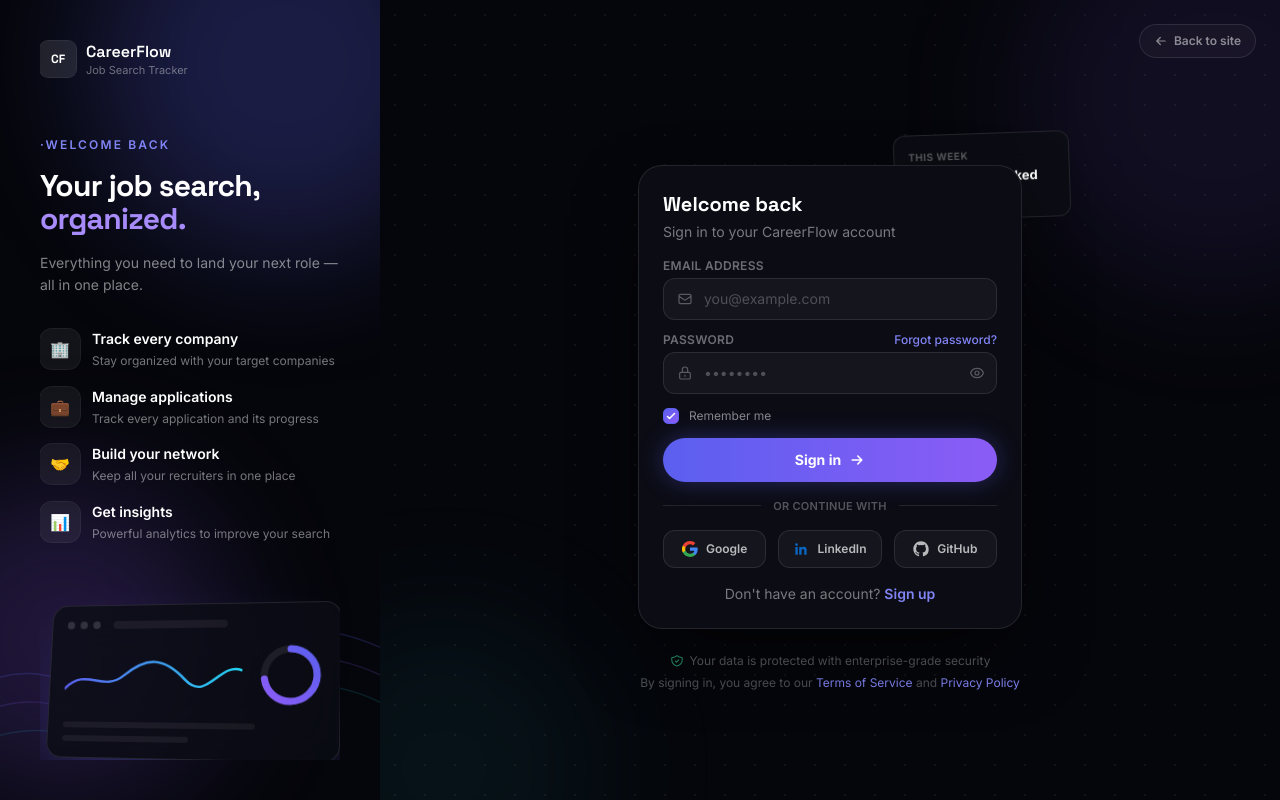
Test: Login › shows the server error message when login fails
Type "jane@example.com" into the field with placeholder "you@example.com" at (830, 299), box top-left (663, 278), bottom-right (997, 320)
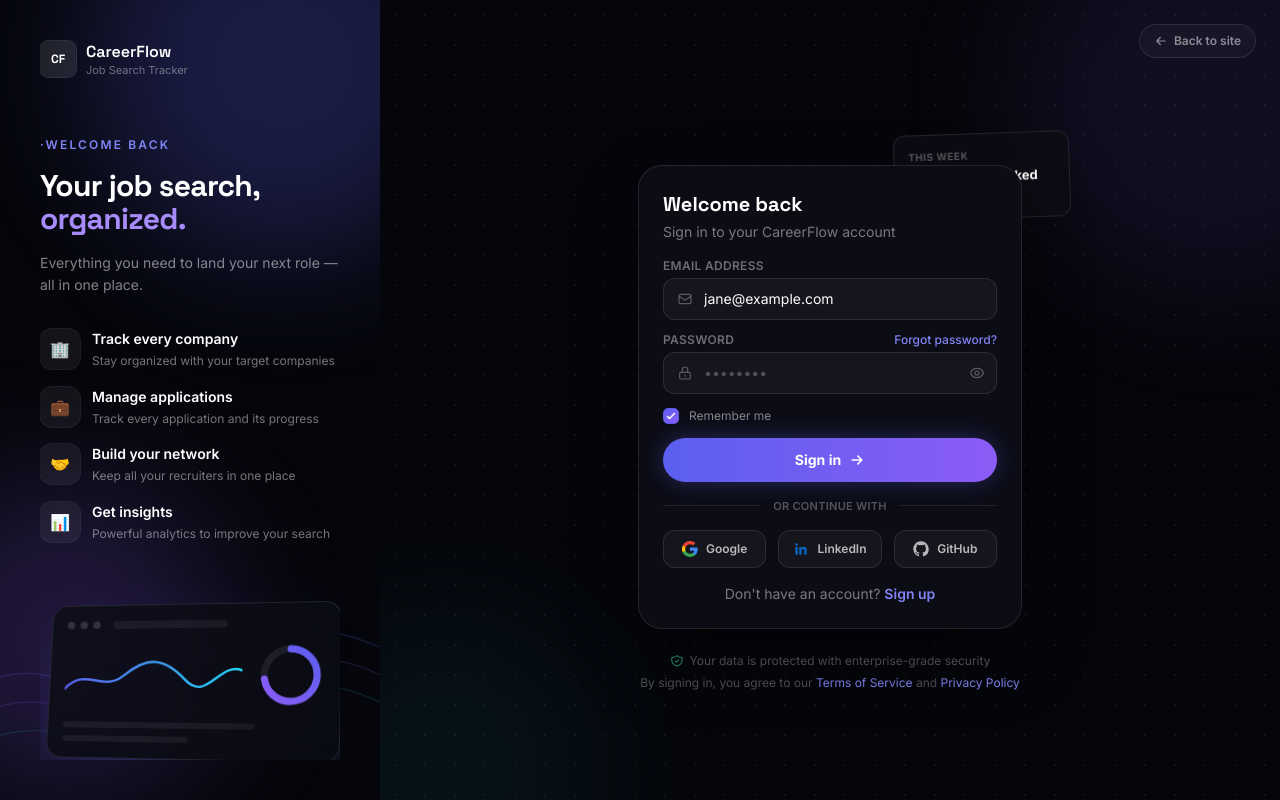
Type "secret123" into the password field with placeholder "••••••••" at (830, 373), box top-left (663, 352), bottom-right (997, 394)
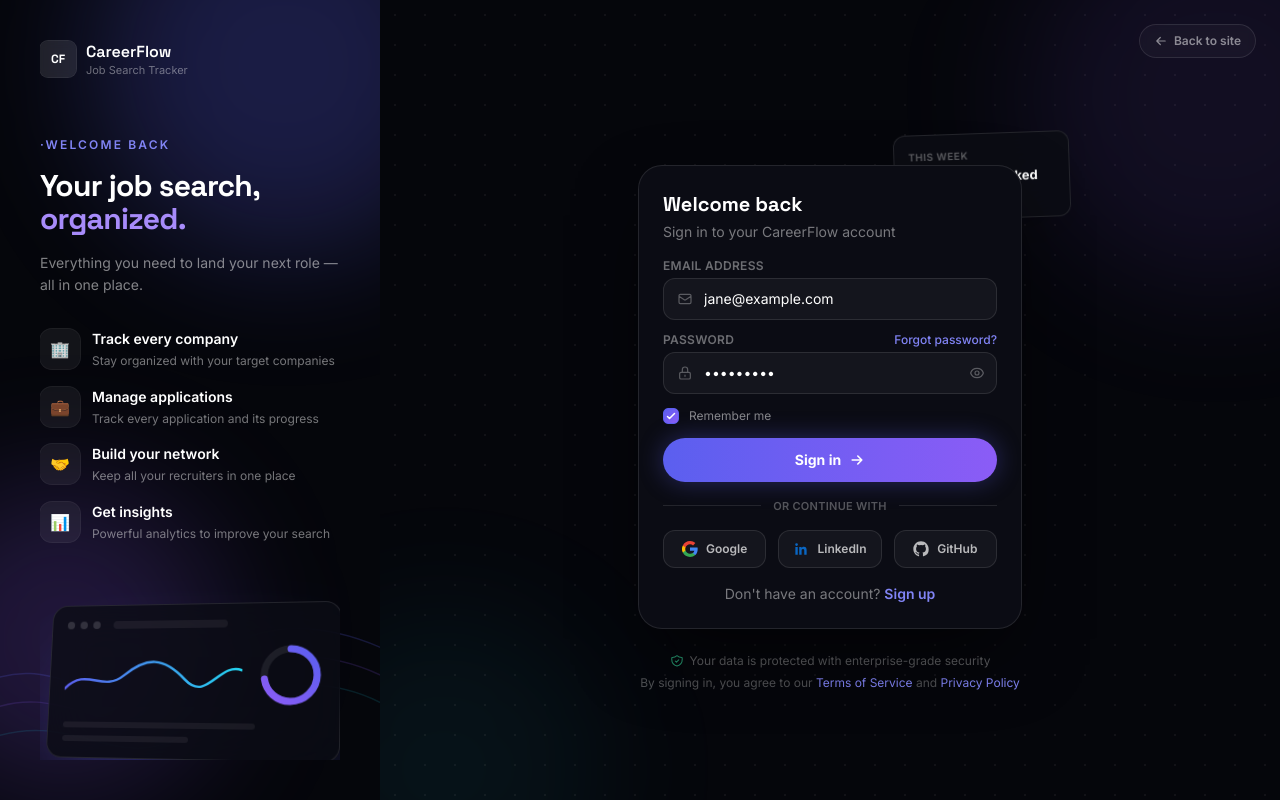
Click the button "Sign in" at (830, 460), box top-left (663, 438), bottom-right (997, 482)
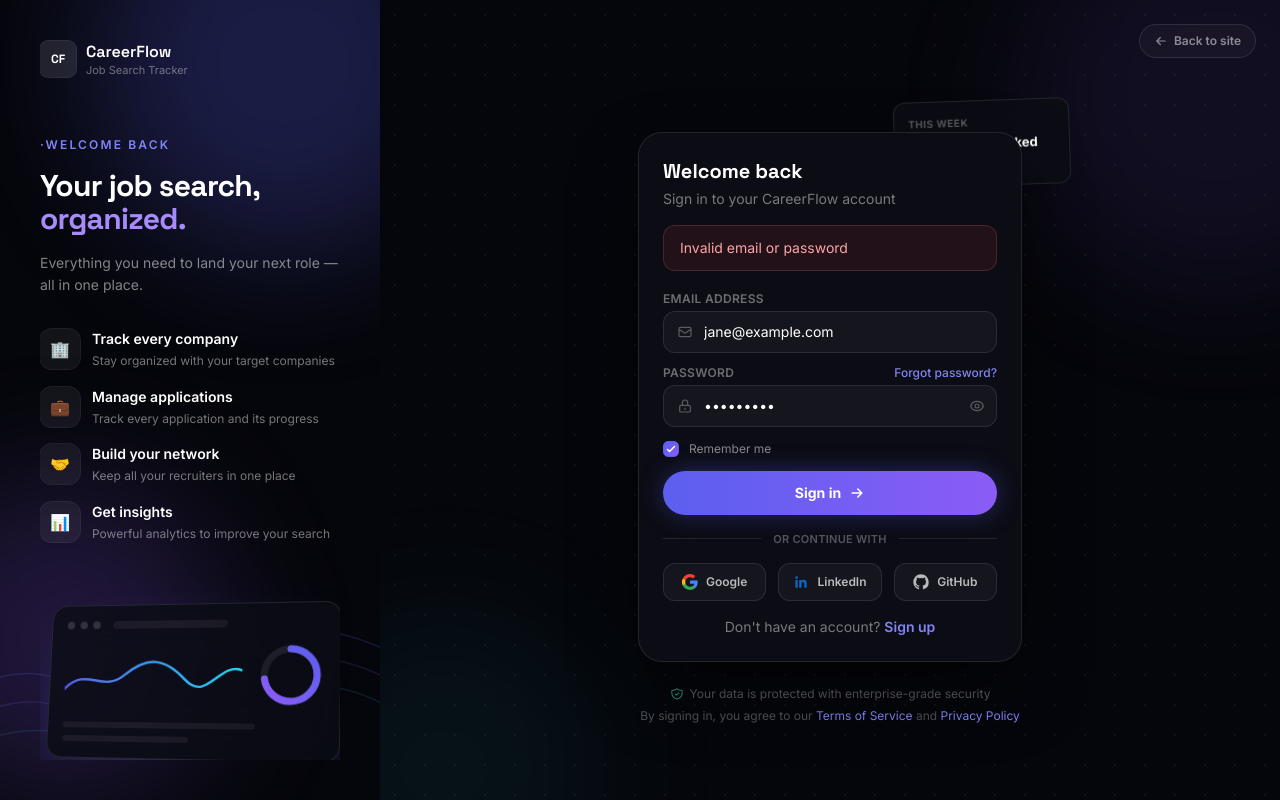
Expected: the text "Invalid email or password" is shown, top-left (663, 225), bottom-right (997, 271)
